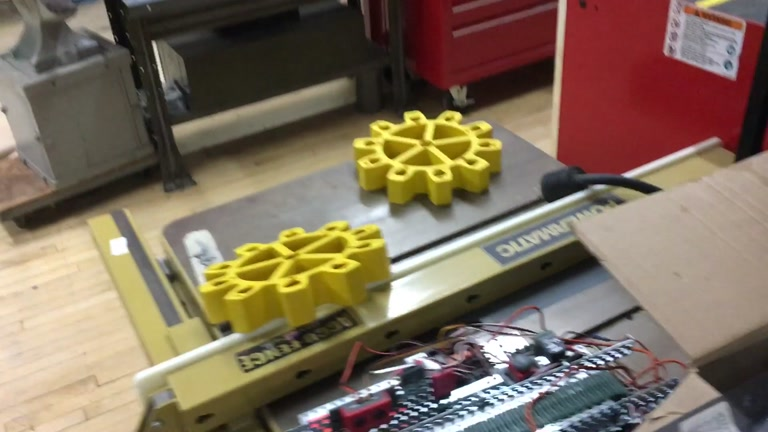gear: (197, 219, 389, 335), (350, 109, 502, 206)
